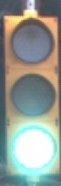Green: (3, 11, 61, 182)
